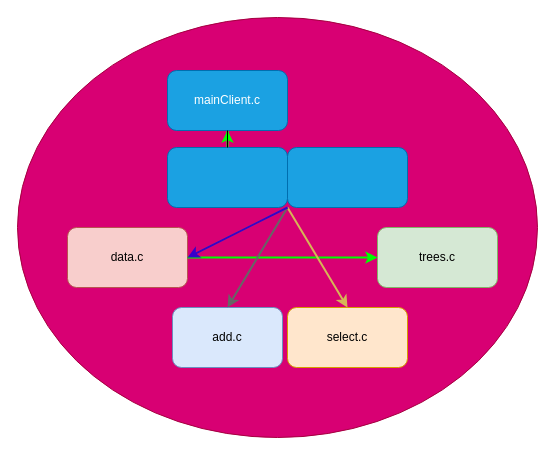
Some shapes in this 555 by 455 pixel diagram are drawn without their labels. Each missing label, with the box of its shape:
main.c: (286, 146, 408, 208)
mainServer.c: (166, 146, 288, 208)
